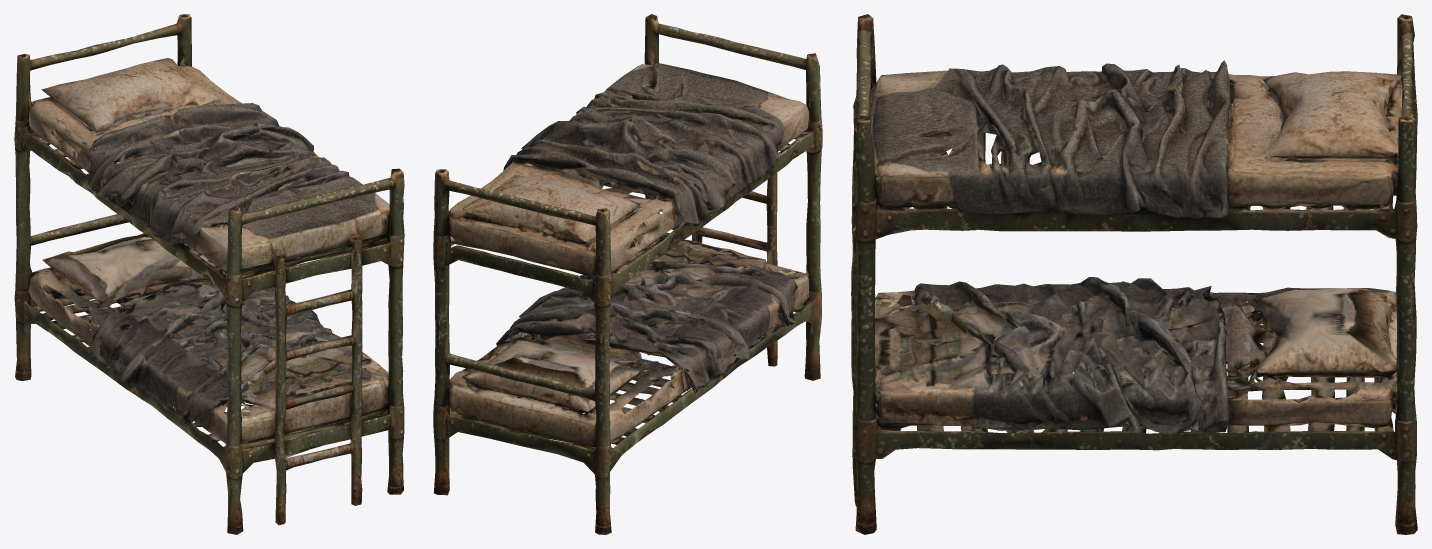
File: BKI_BunkBed.fbx
The picture shows the model from 3 angles, left to right: view 1: azimuth 30°, elevation 25°; view 2: azimuth 150°, elevation 25°; view 3: azimuth 270°, elevation 25°; orthographic projection. The views are drawn at different scales.
Parts seen in each view (by area): view 1: texture_mapping; view 2: texture_mapping; view 3: texture_mapping.
Part boxes in pixels (x1,y1,x2,y2): texture_mapping: (14, 14, 404, 534); texture_mapping: (433, 14, 822, 534); texture_mapping: (851, 14, 1417, 534).
Size of the model in its own units: 0.5596 by 0.9972 by 0.8065.
1 material, 1 textured.
